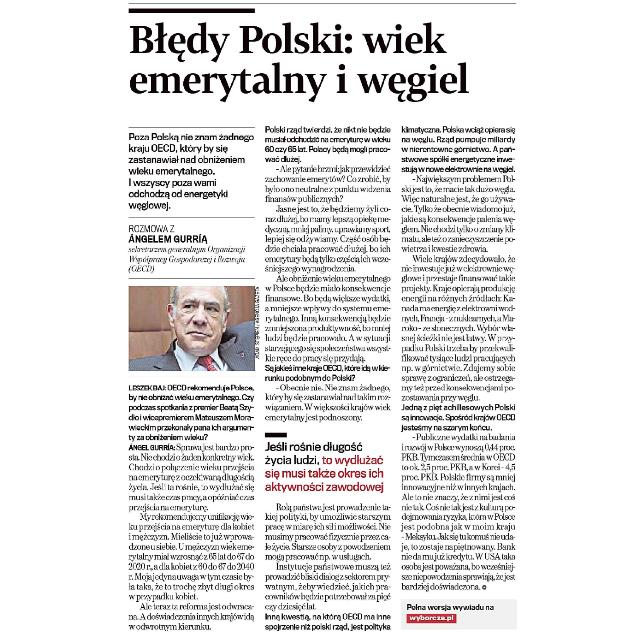body: (398, 123, 518, 592), (262, 124, 396, 426), (126, 381, 256, 634), (261, 498, 395, 634), (262, 427, 390, 495), (126, 221, 252, 275)
image: (125, 281, 258, 373)
lead: (125, 128, 257, 214)
title: (127, 15, 476, 107)
